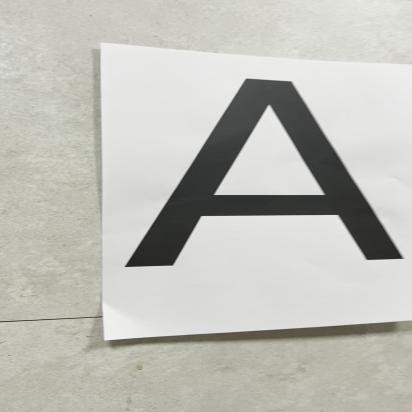seat: (117, 62, 412, 267)
